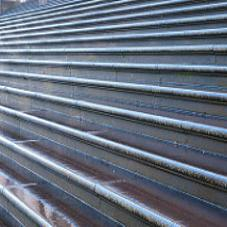Bench: (12, 19, 199, 189)
